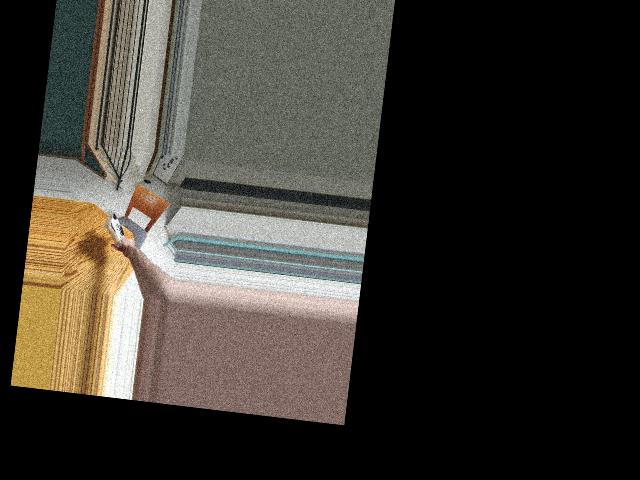cheese: (101, 211, 129, 249)
